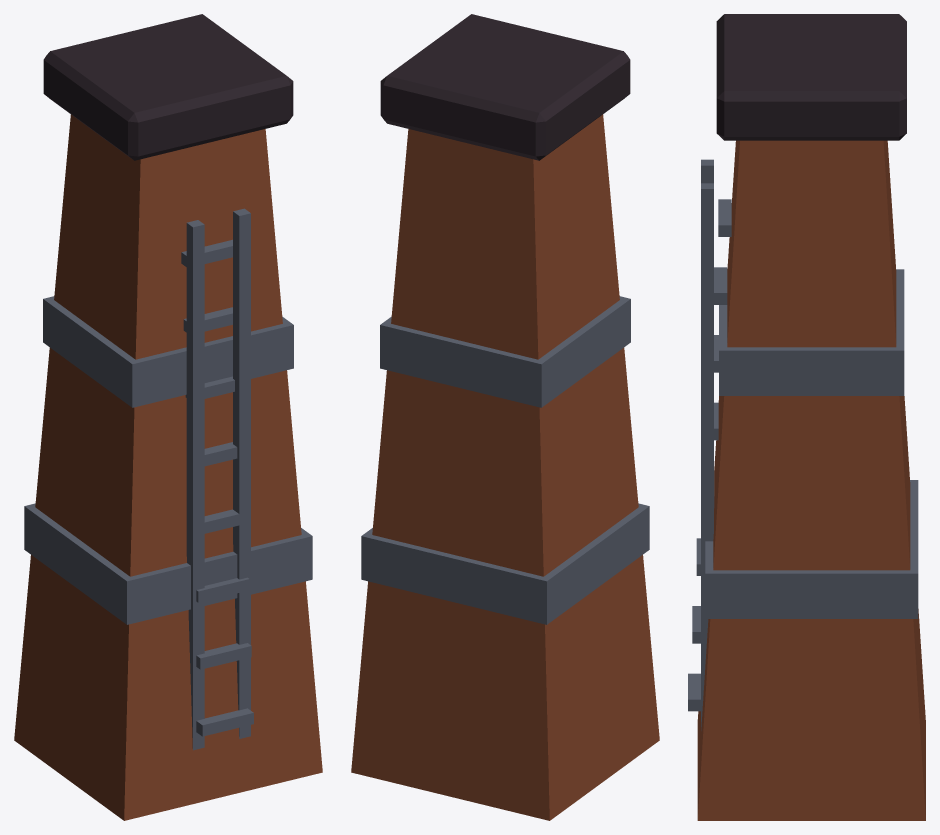
Rendered from env_r3_smokestack.glb.
3 views of the same model, side by side, from view 1: azimuth 30°, elevation 25°; view 2: azimuth 150°, elevation 25°; view 3: azimuth 270°, elevation 25° (orthographic). The views are drawn at different scales.
Visible parts, largest first — view 1: env_r3_smokestack; view 2: env_r3_smokestack; view 3: env_r3_smokestack.
Boxes of the visible parts, x1,y1,x2,y2 form: env_r3_smokestack: [14, 14, 322, 820]; env_r3_smokestack: [351, 14, 659, 820]; env_r3_smokestack: [688, 14, 925, 820].
Size of the model in its own units: 2.4 by 8 by 2.4.
Materials: 1 (1 with a texture image).
